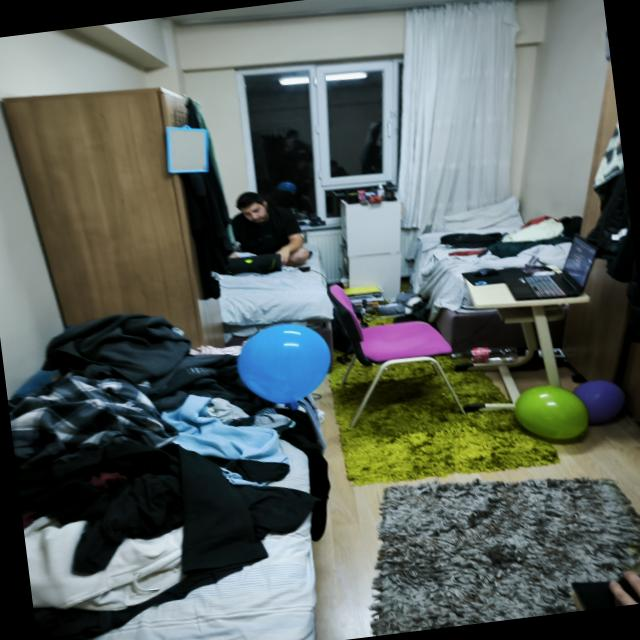balloon: (237, 323, 330, 403), (515, 385, 588, 439)
